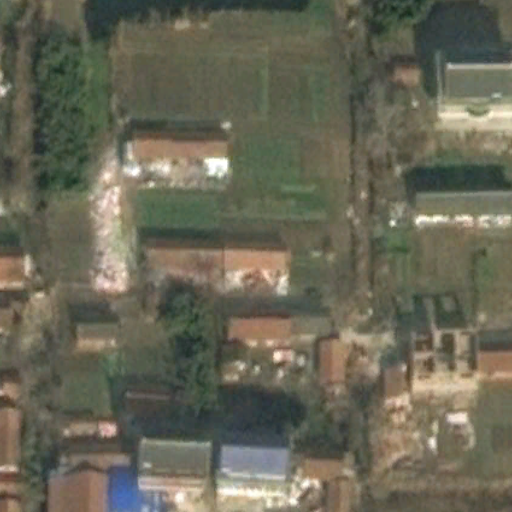msw: (91, 169, 127, 291)
